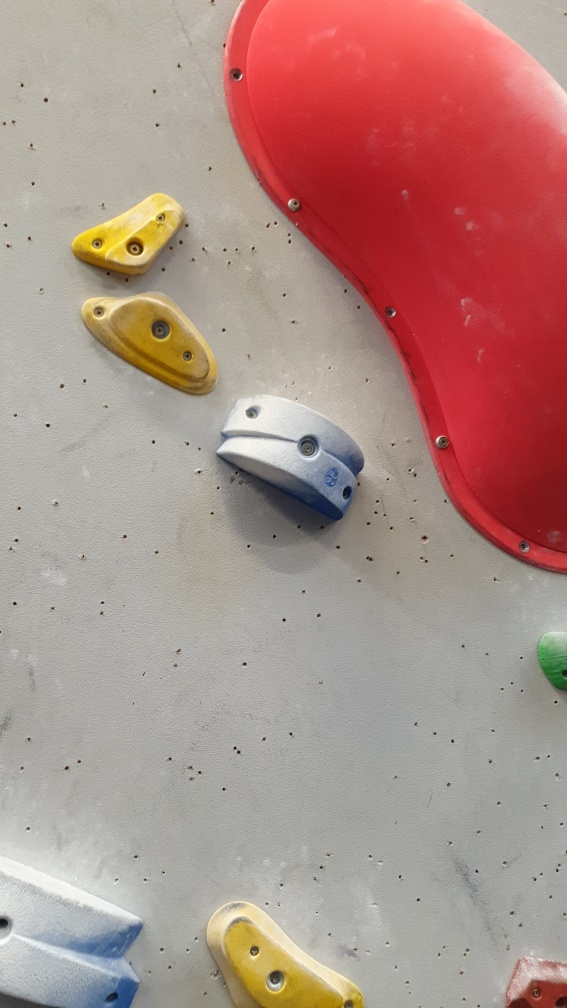Crimp: (104, 204, 181, 284)
Pinch: (1, 851, 146, 1006), (215, 392, 367, 524)
